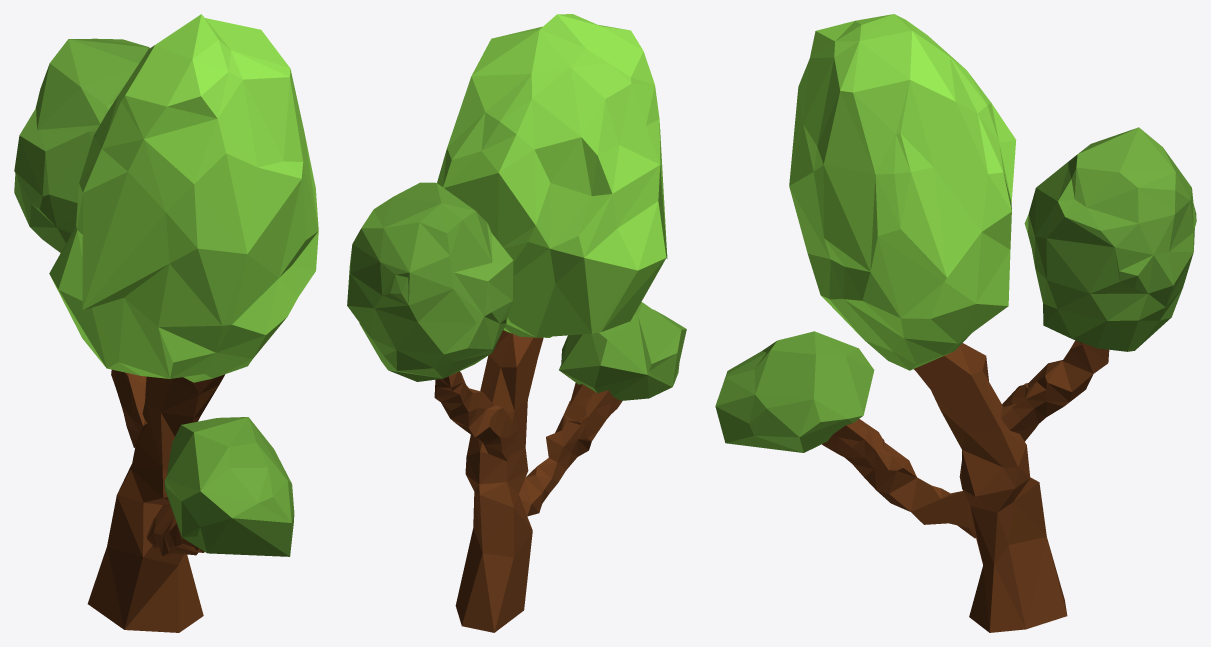
Rendered from las_tree_L.fbx.
3 renders of one model, left to right at view 1: azimuth 30°, elevation 25°; view 2: azimuth 150°, elevation 25°; view 3: azimuth 270°, elevation 25°, orthographic. The views are drawn at different scales.
Visible parts, largest first — view 1: tree L; view 2: tree L; view 3: tree L.
Part boxes in pixels (box(x1,y1,x2,y2)): tree L: box(14, 14, 318, 632); tree L: box(347, 14, 686, 632); tree L: box(715, 14, 1196, 632).
Bounding box in the file's own units: 303 × 731 × 536.
